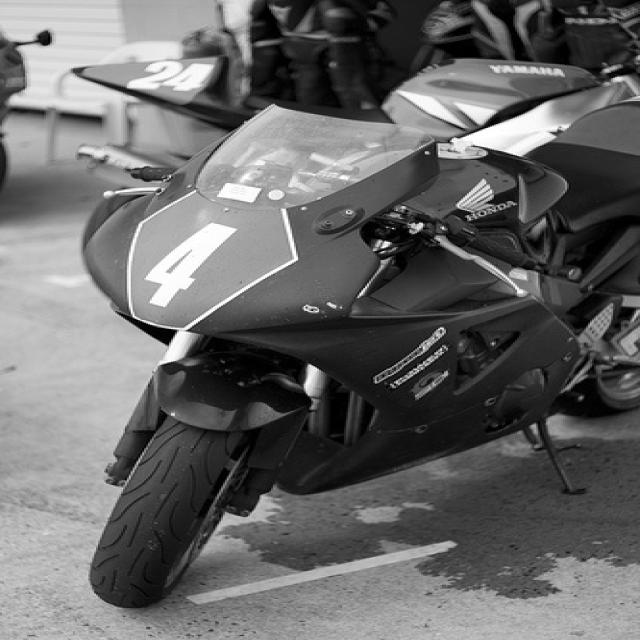motorbike: (75, 90, 638, 604), (62, 52, 634, 173)
